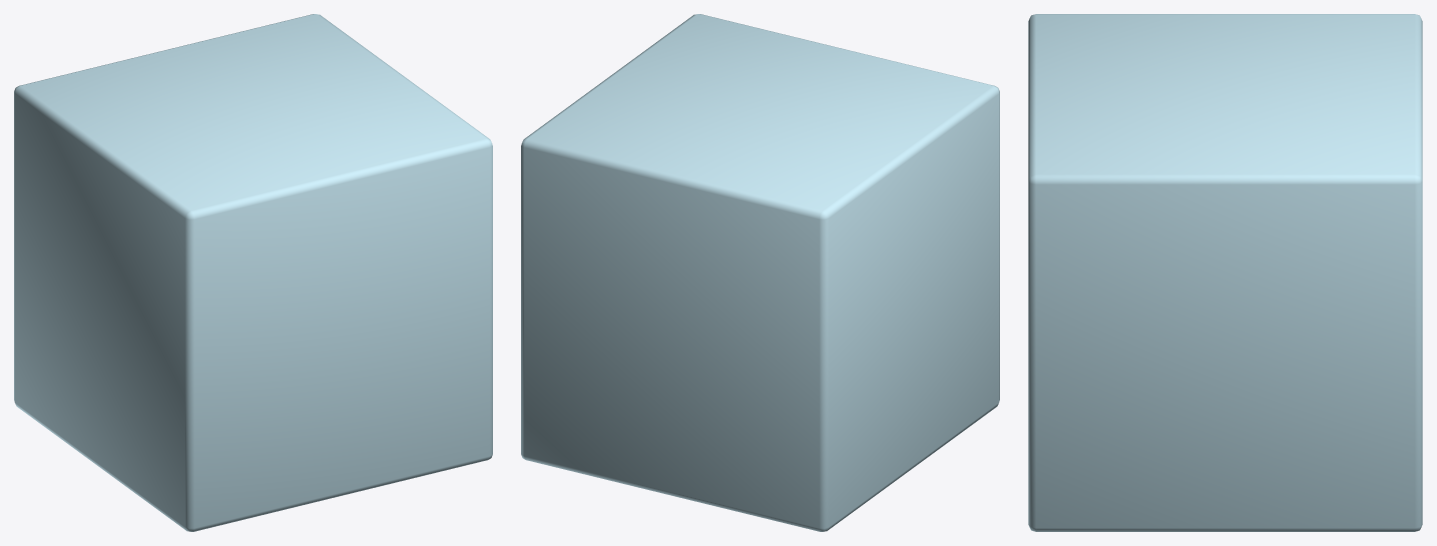
File: glass.glb
3 renders of one model, left to right at view 1: azimuth 30°, elevation 25°; view 2: azimuth 150°, elevation 25°; view 3: azimuth 270°, elevation 25°, orthographic. The views are drawn at different scales.
Parts seen in each view (by area): view 1: glass; view 2: glass; view 3: glass.
Part boxes in pixels (left/top/right/bottom): glass: left=14, top=14, right=492, bottom=531; glass: left=521, top=14, right=999, bottom=531; glass: left=1028, top=14, right=1422, bottom=531.
Bounding box in the file's own units: 1 × 1 × 1.
